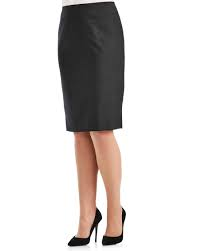F_tailored skirt: (51, 3, 127, 134)
